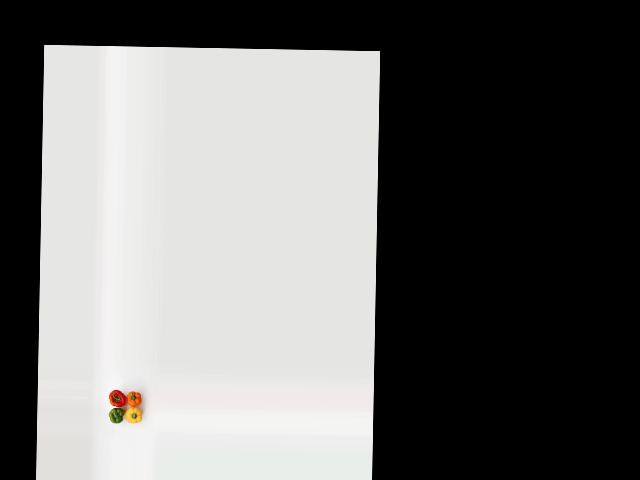bell_pepper: (107, 404, 125, 428)
